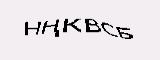Б: (115, 23, 135, 41)
В: (84, 13, 100, 35)
К: (59, 15, 83, 34)
Н: (20, 18, 42, 35)
С: (102, 18, 117, 40)
Ң: (42, 17, 61, 39)
